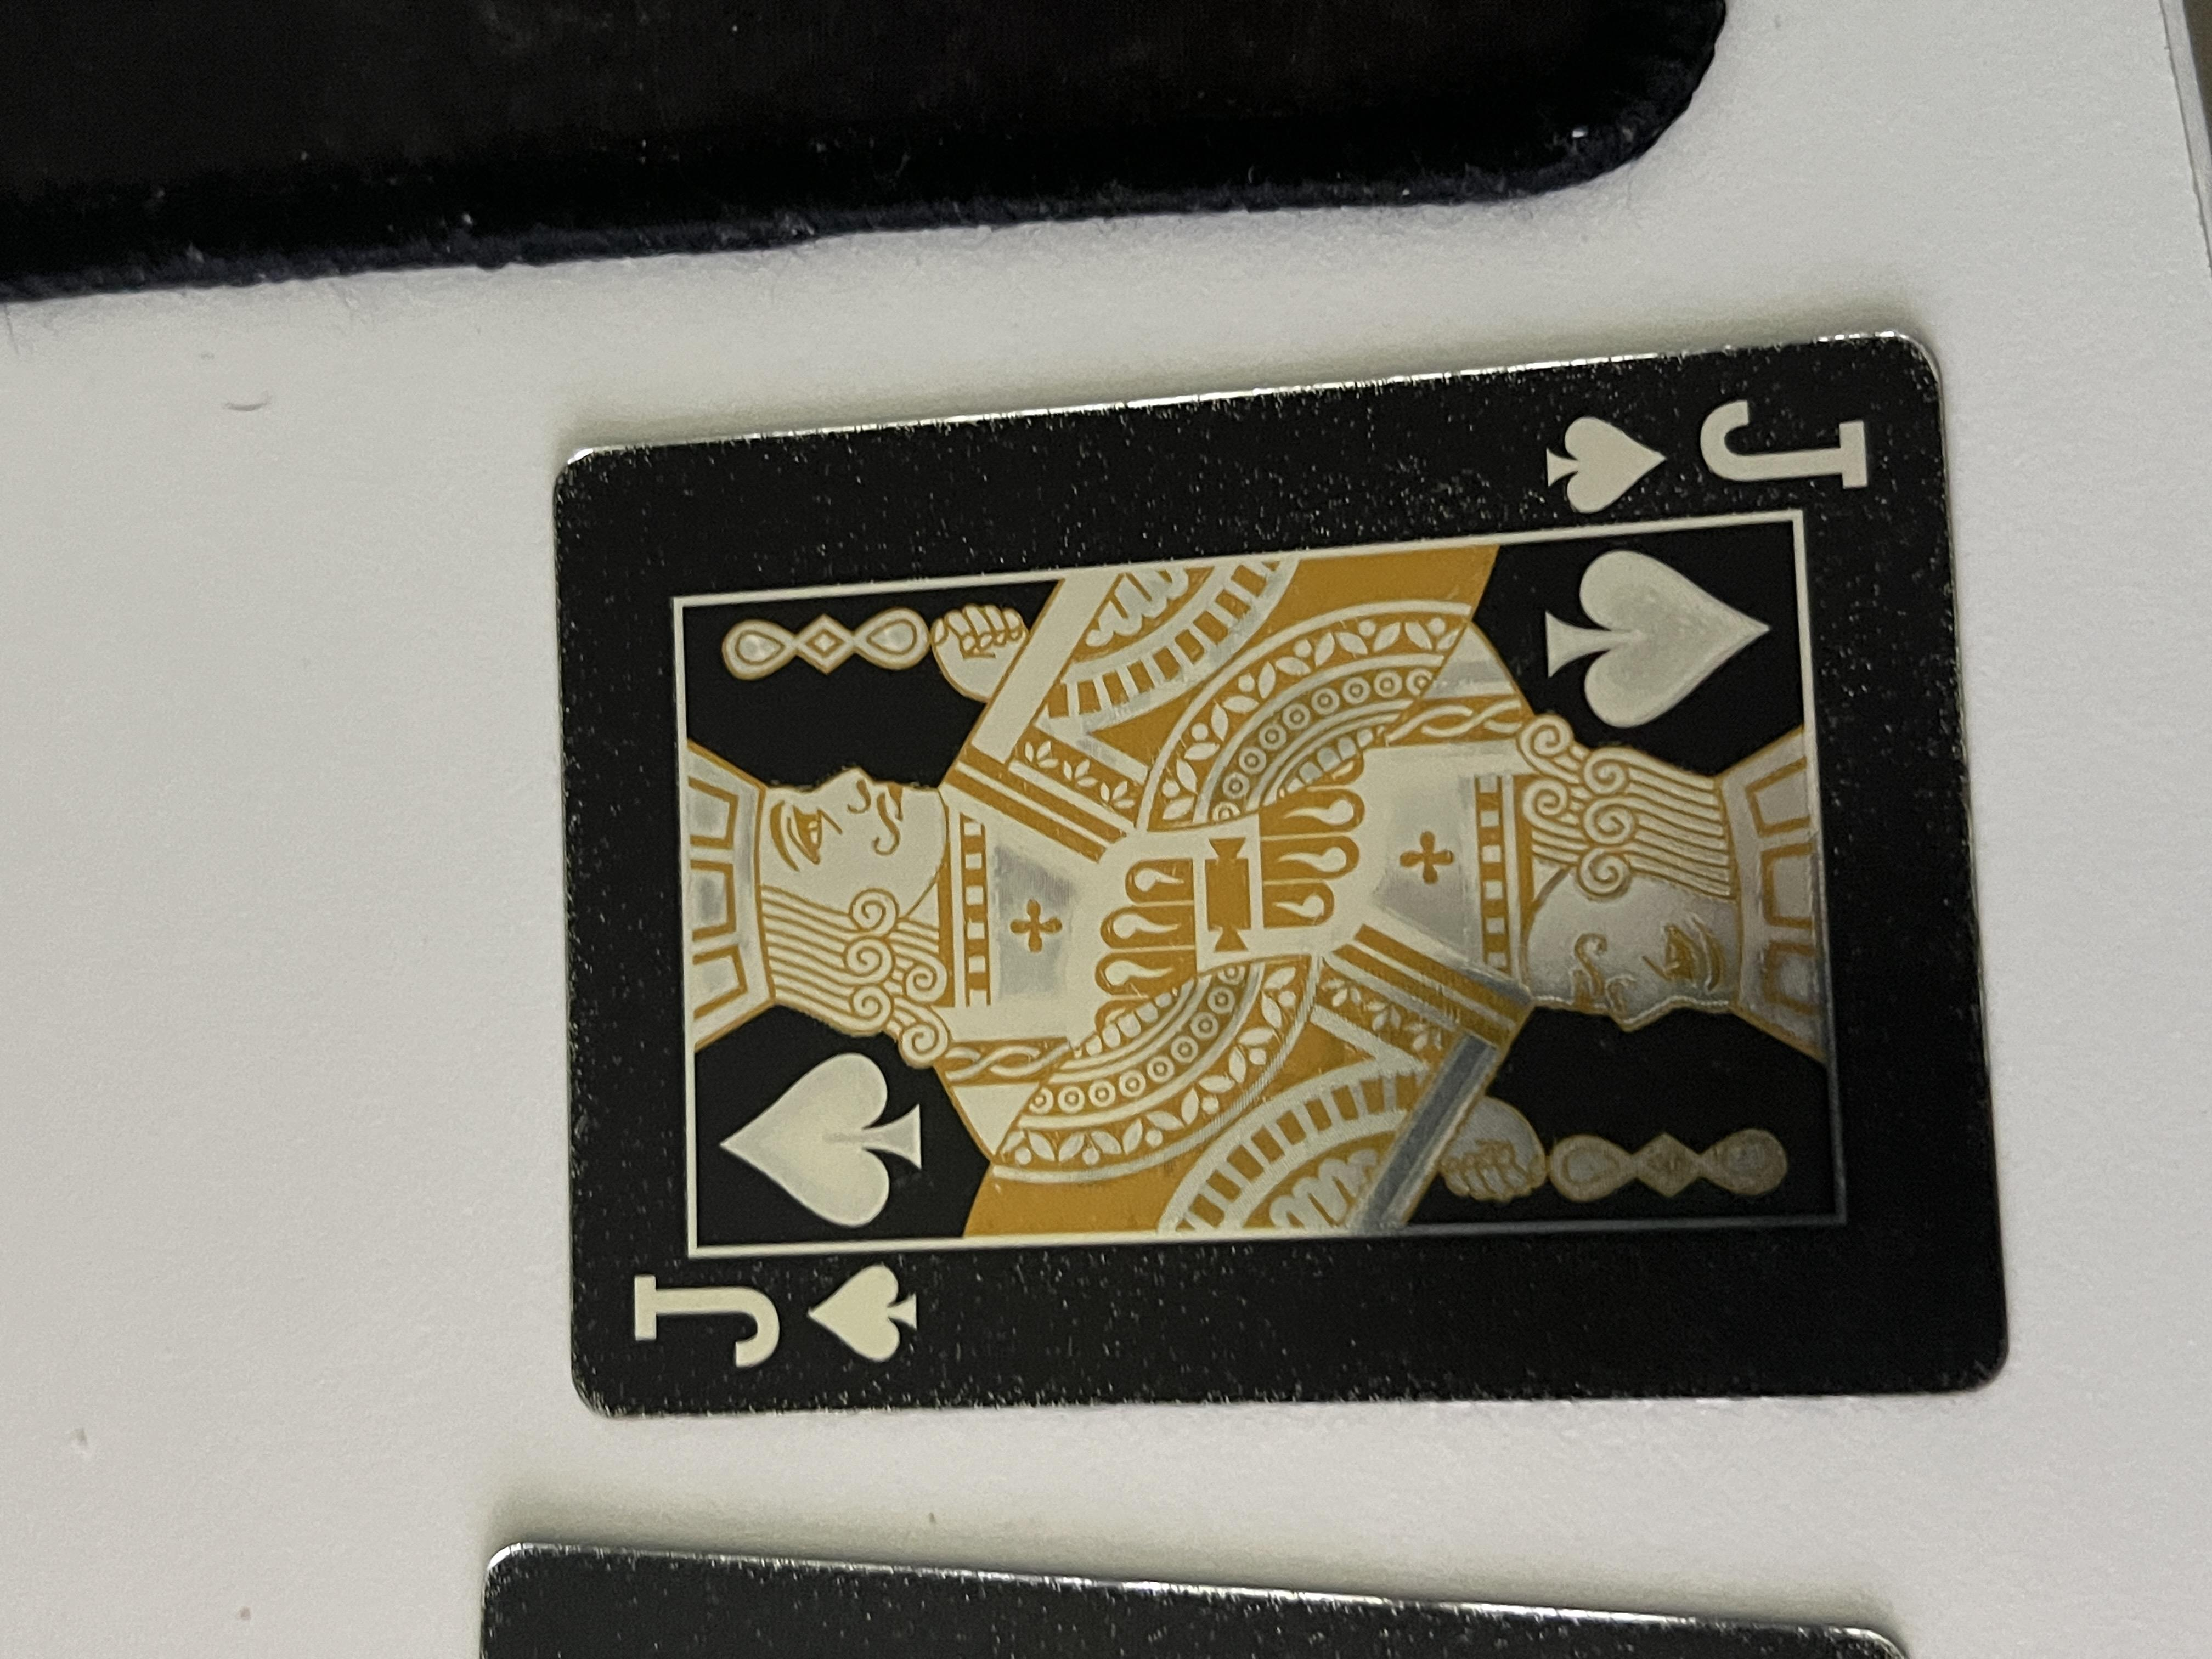JS: (1517, 1154, 1712, 1422), (362, 460, 545, 694)
